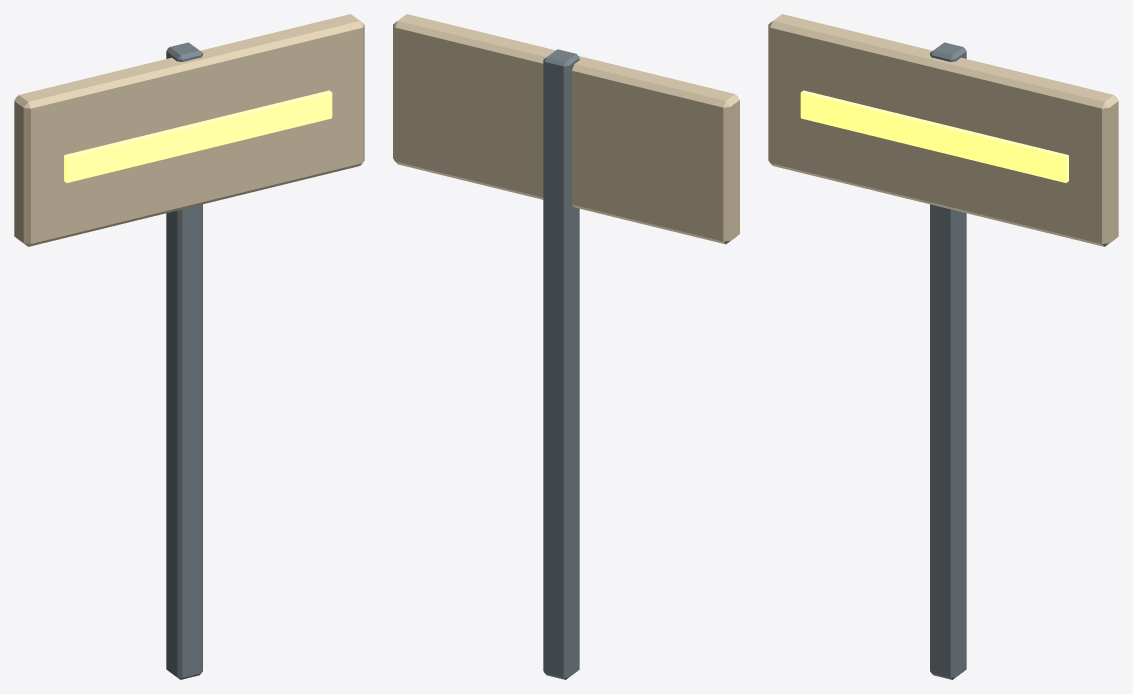
The model's file is street_019_seed11.glb.
3 renders of one model, left to right at view 1: azimuth 30°, elevation 25°; view 2: azimuth 150°, elevation 25°; view 3: azimuth 330°, elevation 25°, orthographic.
Parts seen in each view (by area): view 1: street_019_seed11; view 2: street_019_seed11; view 3: street_019_seed11.
Boxes of the visible parts, box(x1,y1,x2,y2) form: street_019_seed11: box(14, 14, 364, 679); street_019_seed11: box(393, 14, 739, 679); street_019_seed11: box(768, 14, 1118, 679).
Size of the model in its own units: 1.6 by 2.8 by 0.1825.
